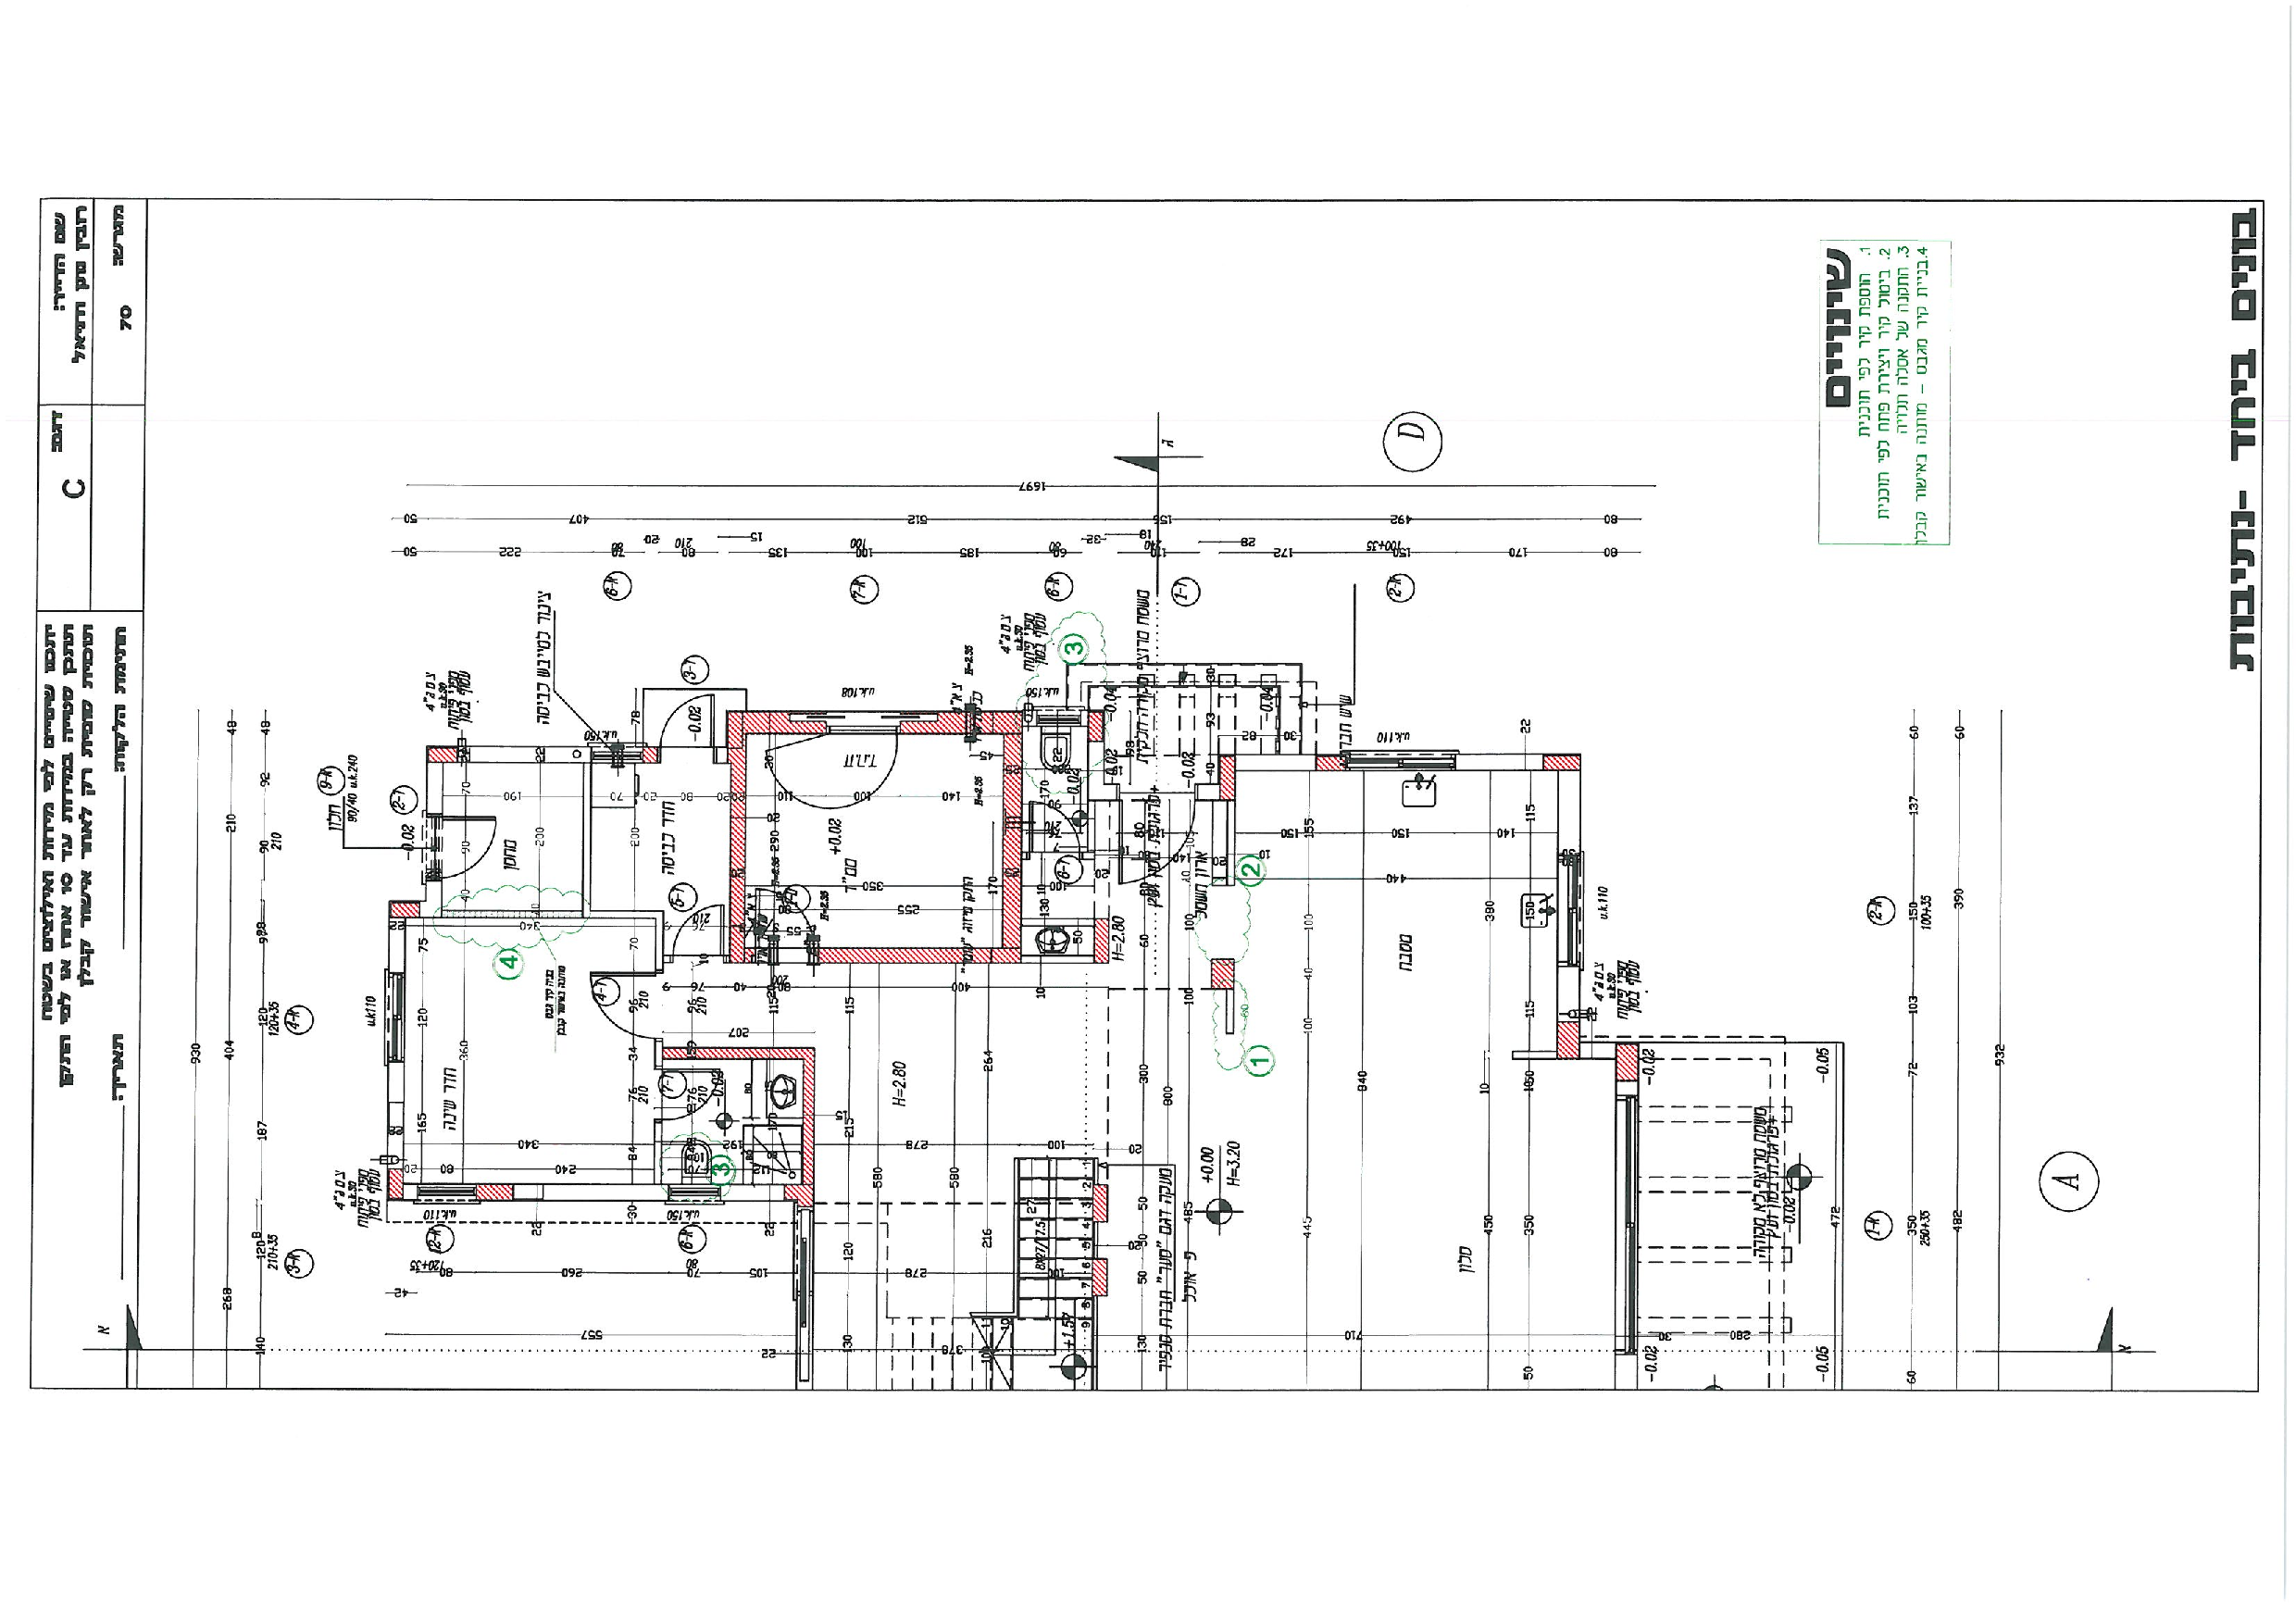wall: (819, 949, 963, 964), (727, 713, 791, 731)
window: (1614, 1096, 1639, 1354), (1560, 857, 1586, 968), (1347, 750, 1456, 773), (385, 975, 406, 1063), (422, 1187, 481, 1208), (666, 1184, 720, 1205), (592, 743, 643, 764)
